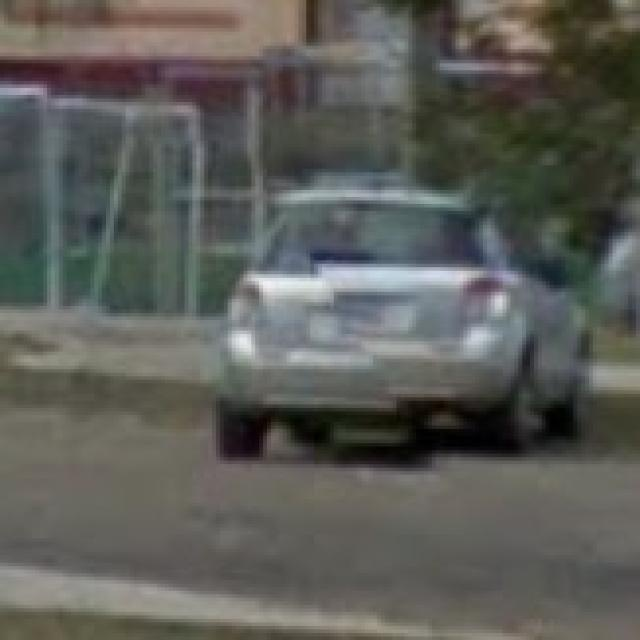Car: (232, 179, 588, 452)
